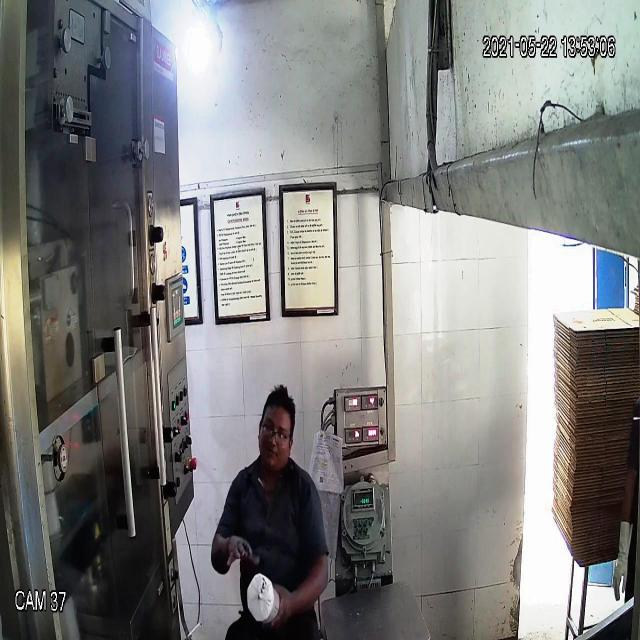glasses: (255, 417, 295, 453)
